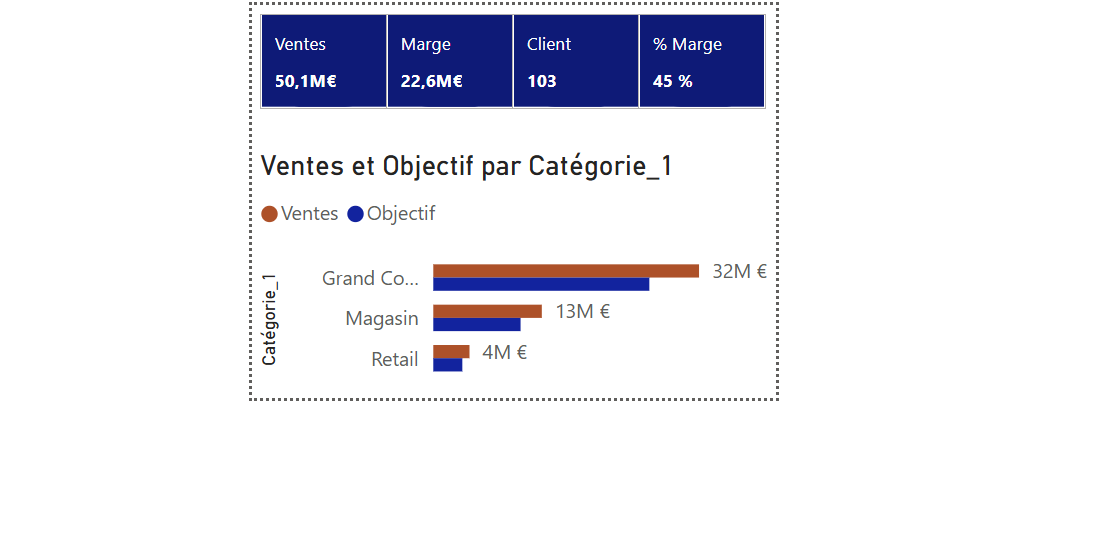

What the dashboard file says about the page in this screenshot:
{"tool":"powerbi","page":{"name":"Info Bulle","canvas":[320,240],"ordinal":1},"visuals":[{"type":"clusteredBarChart","fields":{"Category":["Categorie client.Catégorie_1"],"Y":["Mesure.Ventes","Calendrier.Objectif"]},"box":[388.7,283,659.2,360],"z":0},{"type":"cardVisual","fields":{"Data":["Mesure.Ventes","Mesure.Marge","Mesure.Client"]},"box":[388.7,68.1,542.7,198.8],"z":1000},{"type":"clusteredBarChart","fields":{"Y":["Mesure.Ventes","Calendrier.Objectif"],"Category":["Categorie client.Catégorie_1"]},"box":[0,88,320,152],"z":2000},{"type":"cardVisual","fields":{"Data":["Mesure.Ventes","Mesure.Marge","Mesure.Client","Mesure.Marge / vente"]},"box":[0,0,320,68],"z":3000}]}

Visuals, with their boxes on the page's 320x240 design canvas (x1, y1, x2, y2). These are canvas units, not pixel positions in the 1107x549 screenshot, which may show the page scaled, cropped or inside an application window:
clusteredBarChart - Categorie client.Catégorie_1 x Mesure.Ventes: [389, 283, 1048, 643]
cardVisual - Mesure.Ventes x Mesure.Marge: [389, 68, 931, 267]
clusteredBarChart - Mesure.Ventes x Calendrier.Objectif: [0, 88, 320, 240]
cardVisual - Mesure.Ventes x Mesure.Marge: [0, 0, 320, 68]
